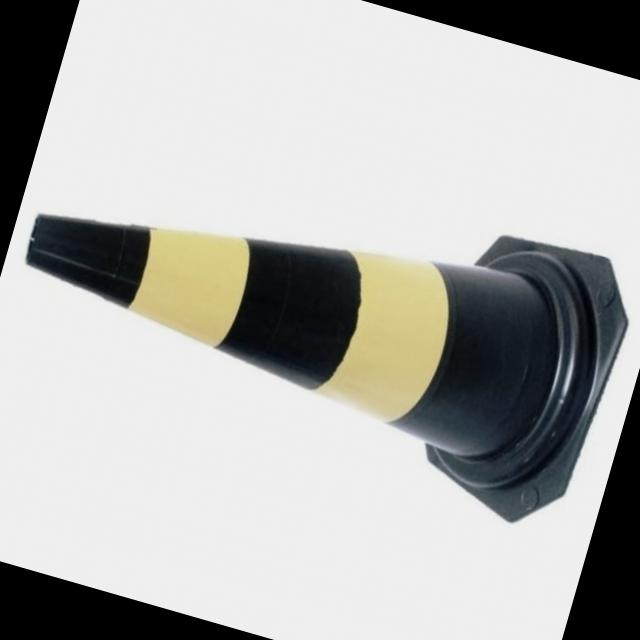cone: (5, 134, 626, 515)
